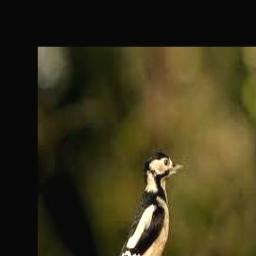Woodpecker: (115, 153, 185, 256)
